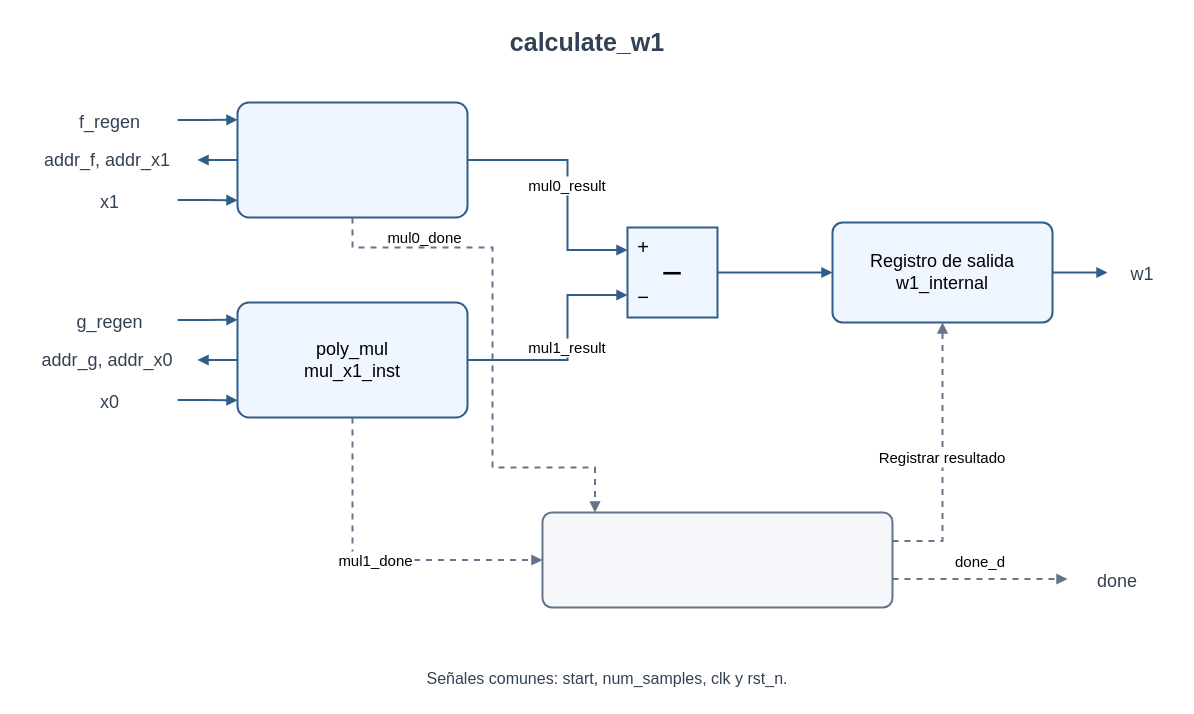
Some shapes in this 1194 by 714 pixel diagram are drawn without their labels. The centre of each missing label's shape, as x and y in pixels:
mul0_done = 1 y mul1_done = 1: (x=717, y=559)
poly_mul mul_x0_inst: (x=352, y=159)
